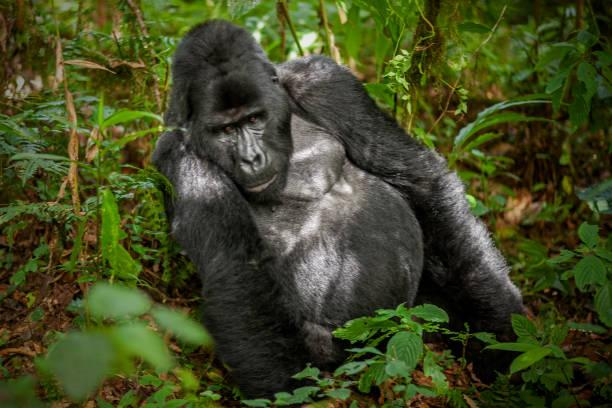goriile_montagne: (140, 1, 539, 401)
